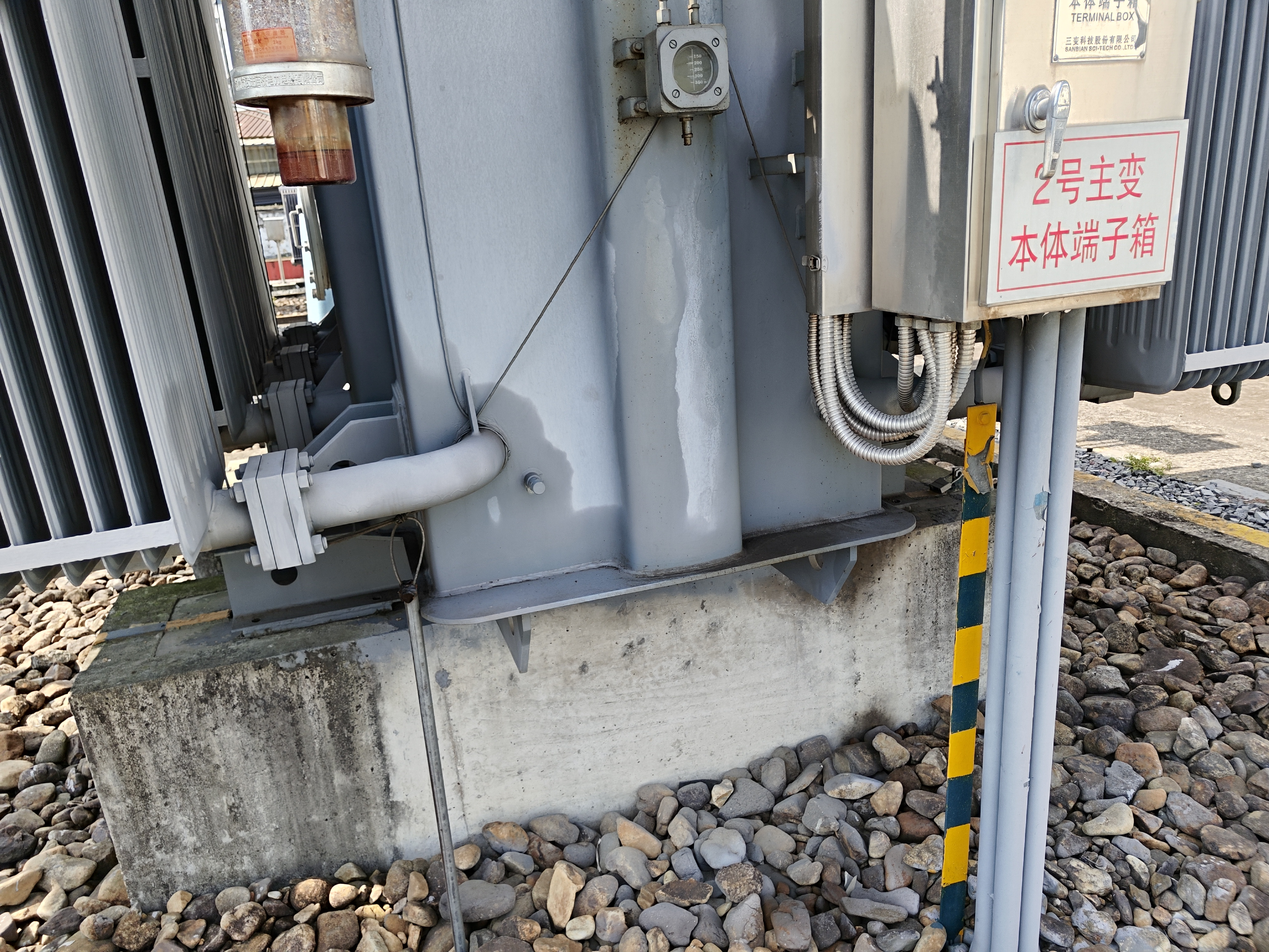cysb_qtjdq: (656, 24, 730, 112)
jdyxx: (935, 399, 1004, 942)
sly_bjbmyw: (171, 127, 719, 632)
ywzt_yfzc: (266, 97, 357, 188)
